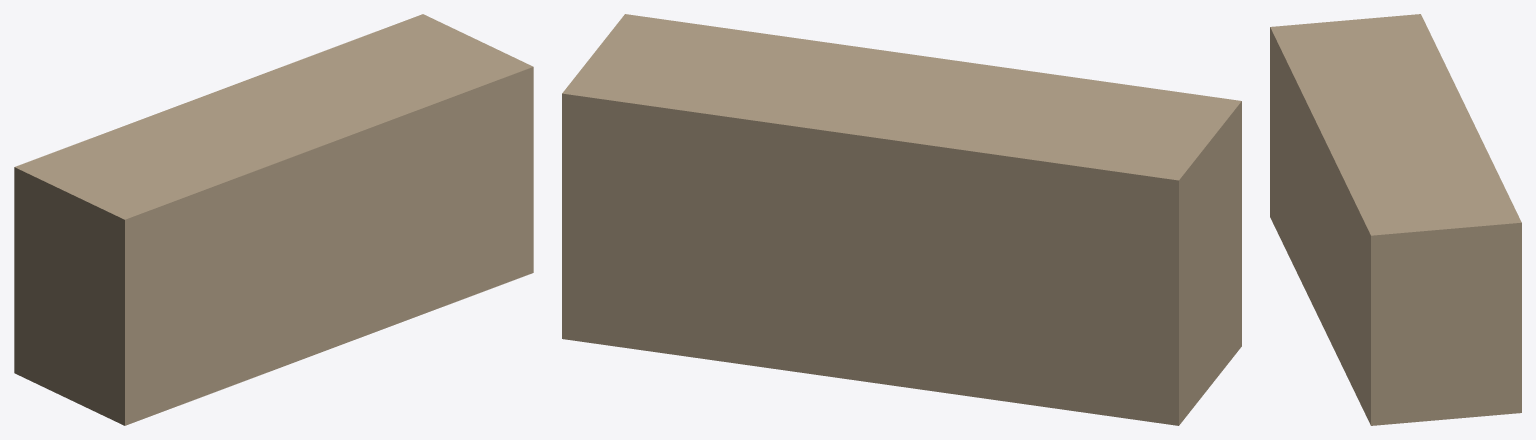
File: bld_107639099.dae
3 renders of one model, left to right at view 1: azimuth 30°, elevation 25°; view 2: azimuth 150°, elevation 25°; view 3: azimuth 270°, elevation 25°, orthographic. The views are drawn at different scales.
Parts seen in each view (by area): view 1: bld_107639099; view 2: bld_107639099; view 3: bld_107639099.
Part boxes in pixels (x1,y1,x2,y2): bld_107639099: (14,14,533,425); bld_107639099: (562,14,1241,425); bld_107639099: (1270,14,1521,425).
Bounding box in the file's own units: 19.99 × 9.59 × 8.
